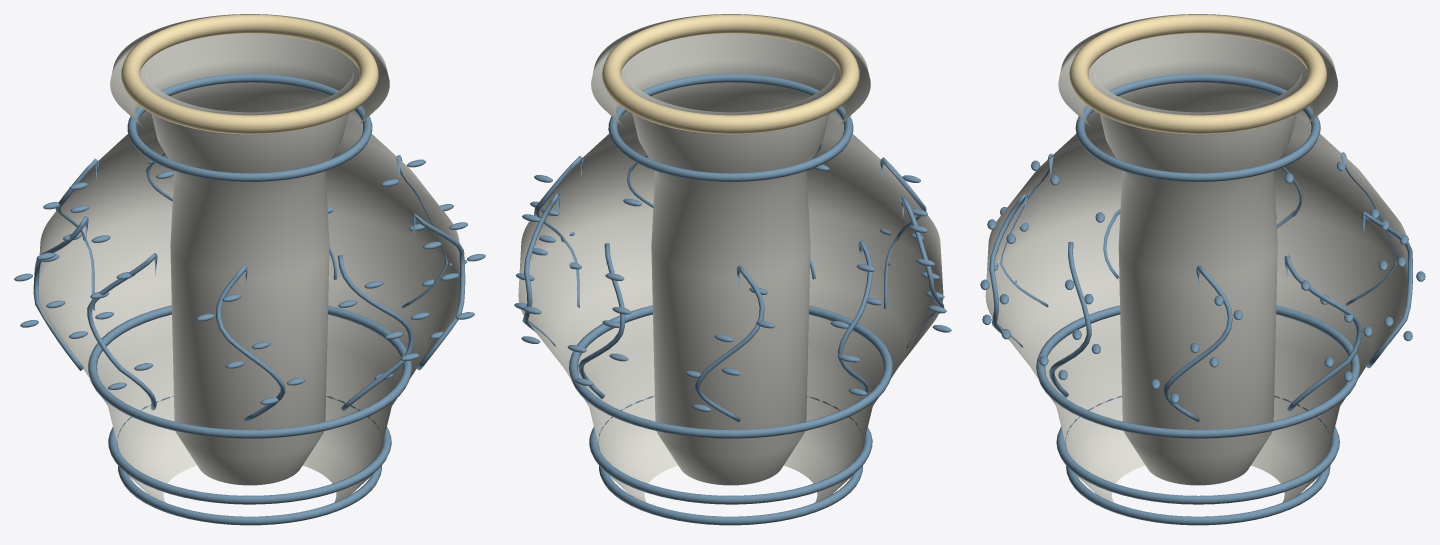
The model's file is porcelain_urn_3d.glb.
3 renders of one model, left to right at view 1: azimuth 30°, elevation 25°; view 2: azimuth 150°, elevation 25°; view 3: azimuth 270°, elevation 25°, orthographic.
Parts seen in each view (by area): view 1: 3D_porcelain, 3D_blue, 3D_gilt_high; view 2: 3D_porcelain, 3D_blue, 3D_gilt_high; view 3: 3D_porcelain, 3D_blue, 3D_gilt_high.
Part boxes in pixels (box(x1,y1,x2,y2)): 3D_porcelain: box(38, 14, 460, 502); 3D_blue: box(14, 73, 485, 525); 3D_gilt_high: box(121, 14, 378, 134); 3D_porcelain: box(518, 14, 943, 502); 3D_blue: box(514, 73, 951, 525); 3D_gilt_high: box(602, 14, 859, 134); 3D_porcelain: box(985, 14, 1407, 502); 3D_blue: box(980, 73, 1425, 525); 3D_gilt_high: box(1069, 14, 1326, 134).
Size of the model in its own units: 0.3376 by 0.3447 by 0.3248.
